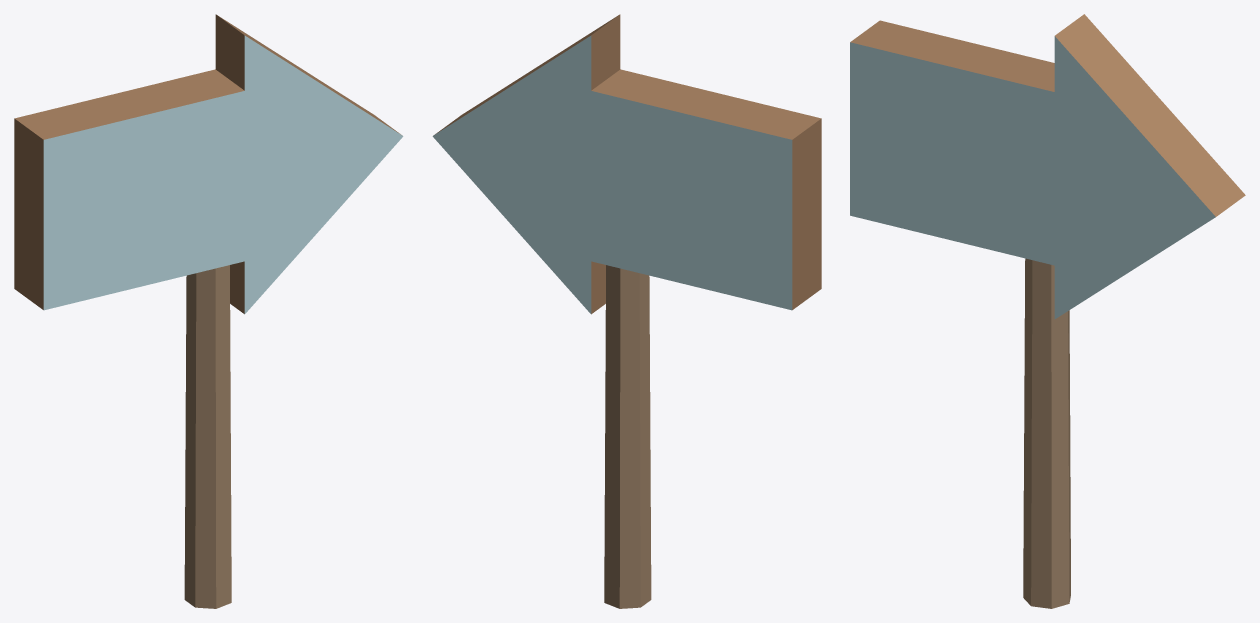
The model's file is arrow-sign.glb.
3 renders of one model, left to right at view 1: azimuth 30°, elevation 25°; view 2: azimuth 150°, elevation 25°; view 3: azimuth 330°, elevation 25°, orthographic.
Parts seen in each view (by area): view 1: arrow-sign; view 2: arrow-sign; view 3: arrow-sign.
Boxes of the visible parts, bbox=[...] form: arrow-sign: bbox=[14, 14, 403, 608]; arrow-sign: bbox=[432, 14, 821, 608]; arrow-sign: bbox=[850, 14, 1245, 608].
Size of the model in its own units: 1.7 by 2.57 by 0.24.
